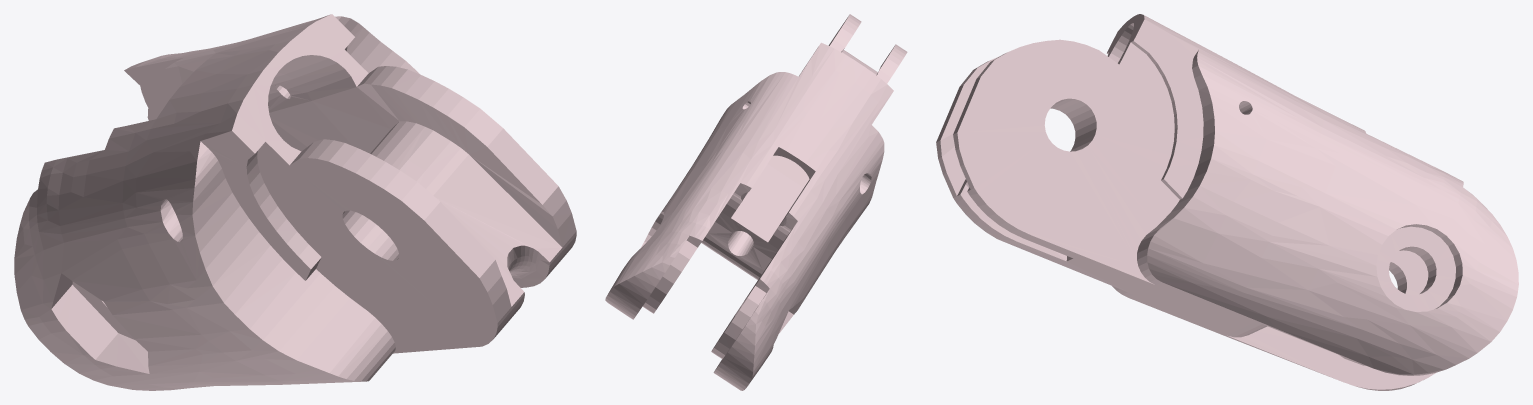
The model's file is i02_rightHand_majeureMid_visual.obj.balanced.glb.
The picture shows the model from 3 angles, left to right: view 1: azimuth 30°, elevation 25°; view 2: azimuth 150°, elevation 25°; view 3: azimuth 270°, elevation 25°; orthographic projection. The views are drawn at different scales.
Bounding box in the file's own units: 0.1774 × 0.2775 × 0.393.
